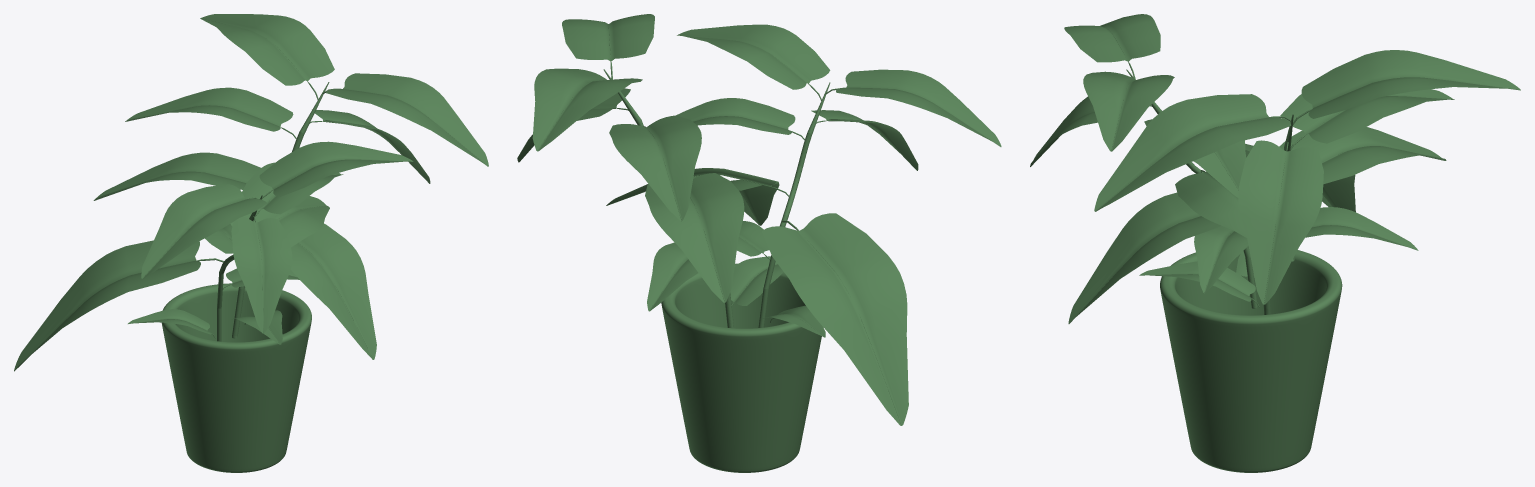
The model's file is Plant.fbx.
The picture shows the model from 3 angles, left to right: view 1: azimuth 30°, elevation 25°; view 2: azimuth 150°, elevation 25°; view 3: azimuth 270°, elevation 25°; orthographic projection. The views are drawn at different scales.
Parts seen in each view (by area): view 1: PlantMoveableObjectsHaeuschen; view 2: PlantMoveableObjectsHaeuschen; view 3: PlantMoveableObjectsHaeuschen.
Part boxes in pixels (bbox=[...]): PlantMoveableObjectsHaeuschen: bbox=[14, 14, 488, 472]; PlantMoveableObjectsHaeuschen: bbox=[517, 14, 1001, 472]; PlantMoveableObjectsHaeuschen: bbox=[1030, 14, 1520, 472].
Size of the model in its own units: 46.25 by 41.32 by 42.69.
